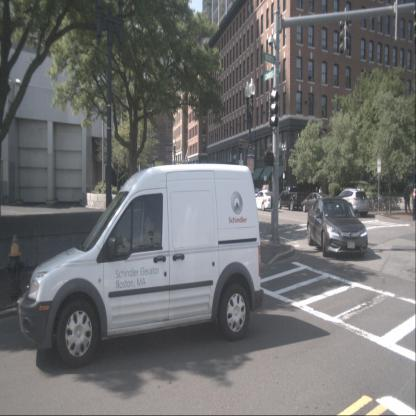human-pedestrian-adult: (403, 184, 411, 214), (411, 188, 416, 221), (314, 186, 319, 206), (319, 186, 323, 207)
vehicle-bicycle: (372, 195, 387, 216)
vehicle-car: (17, 162, 265, 368), (307, 196, 369, 258), (336, 190, 369, 215), (301, 191, 331, 211), (256, 184, 275, 212)
vehicle-truck: (278, 184, 306, 213)
